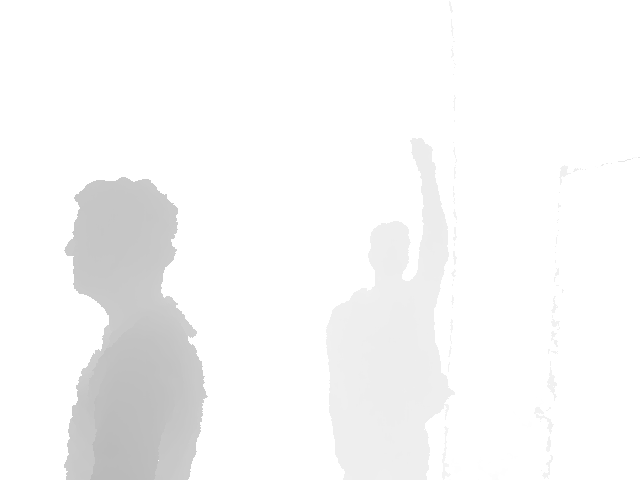hand: (409, 138, 437, 180)
head: (64, 177, 182, 314), (368, 220, 410, 290)
person: (324, 138, 456, 480), (61, 178, 209, 480)
